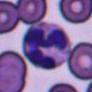N: (22, 22, 70, 69)
